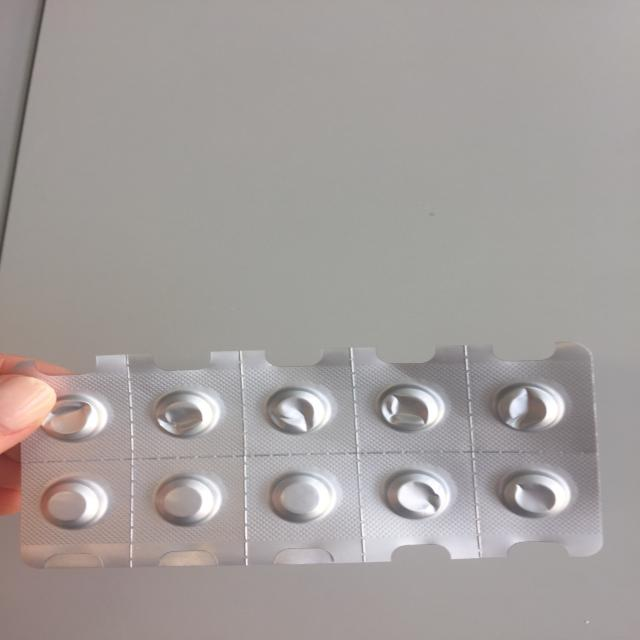Empty: (33, 382, 112, 443), (490, 380, 573, 438), (495, 464, 578, 520), (378, 464, 453, 524), (370, 381, 448, 436), (145, 385, 220, 442), (260, 380, 336, 436)
Pill: (259, 468, 346, 526), (144, 472, 226, 530), (35, 472, 111, 532)
